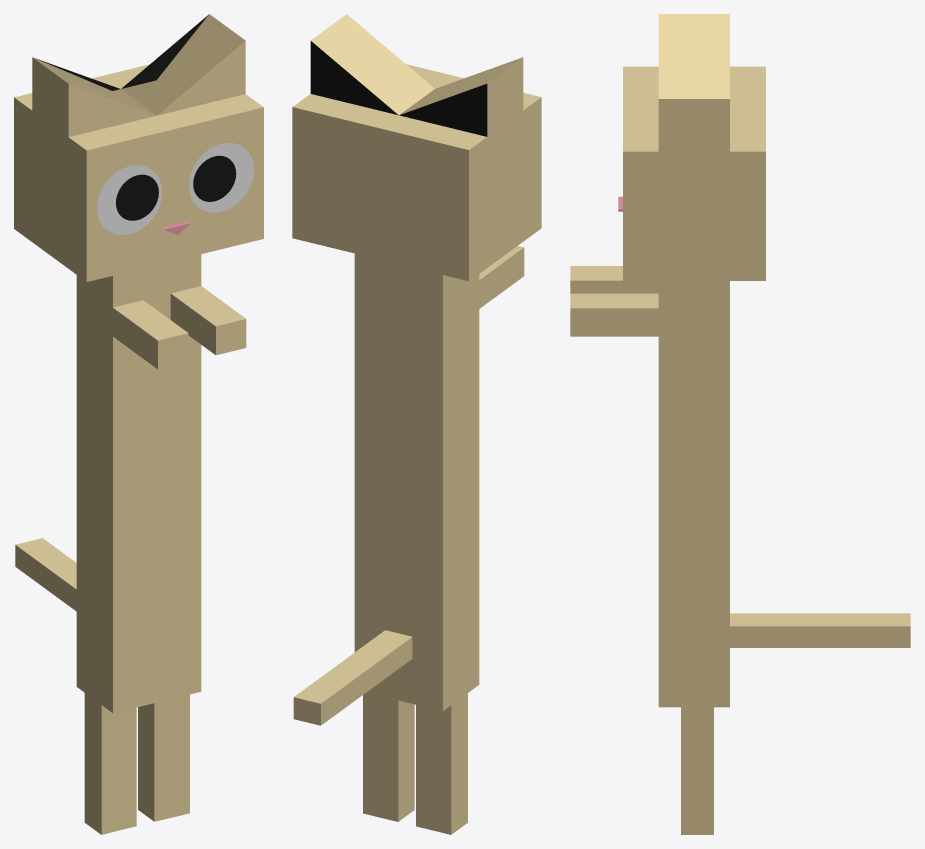
File: long_cat.fbx
The picture shows the model from 3 angles, left to right: view 1: azimuth 30°, elevation 25°; view 2: azimuth 150°, elevation 25°; view 3: azimuth 270°, elevation 25°; orthographic projection.
Visible parts, largest first — view 1: cat, yeux, Circle; view 2: cat; view 3: cat.
Part boxes in pixels (bbox=[...]): cat: bbox=[14, 14, 263, 834]; yeux: bbox=[97, 142, 253, 235]; Circle: bbox=[116, 155, 236, 220]; cat: bbox=[292, 14, 541, 834]; cat: bbox=[570, 14, 910, 834].
Bounding box in the file's own units: 282 × 1171 × 477.
